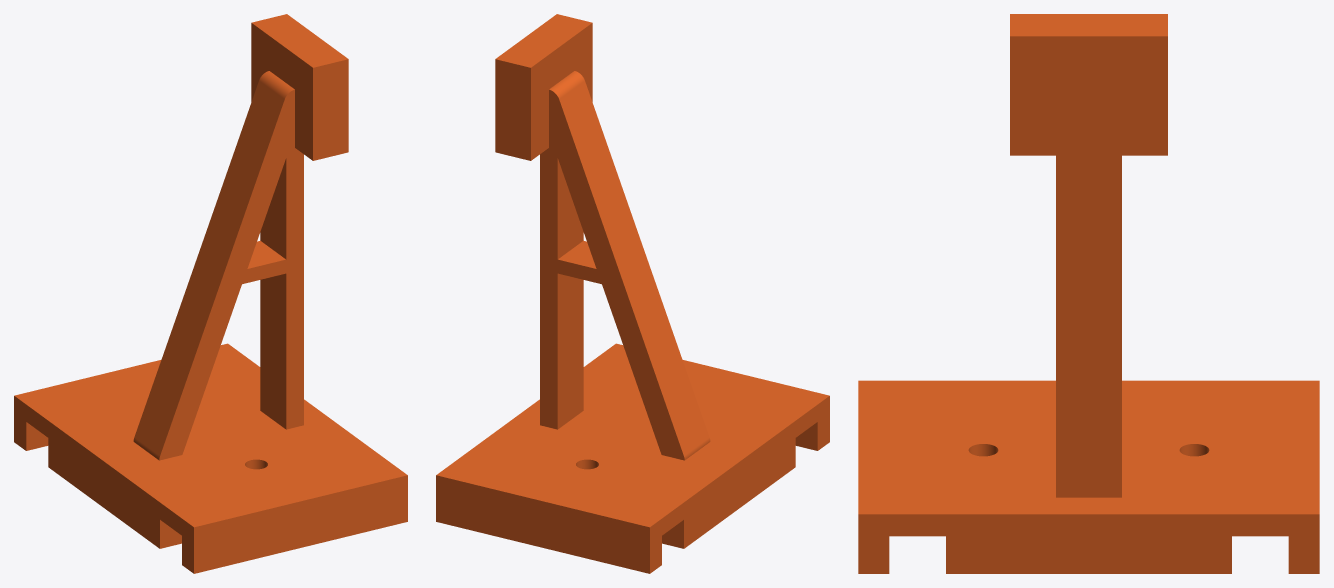
Rendered from 02-left.glb.
3 views of the same model, side by side, from view 1: azimuth 30°, elevation 25°; view 2: azimuth 150°, elevation 25°; view 3: azimuth 270°, elevation 25° (orthographic). The views are drawn at different scales.
Visible parts, largest first — view 1: left_solid; view 2: left_solid; view 3: left_solid.
Boxes of the visible parts, <box> form: left_solid: <box>14,14,407,573</box>; left_solid: <box>436,14,829,573</box>; left_solid: <box>858,14,1319,573</box>.
Bounding box in the file's own units: 48 × 90 × 70.
